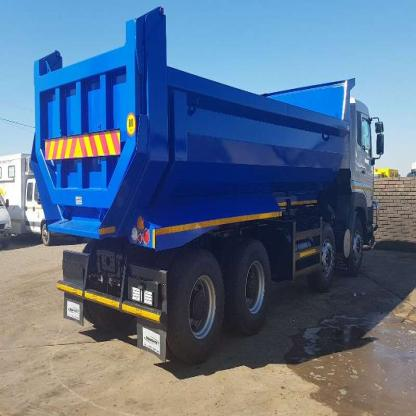dump_truck: (26, 8, 376, 353)
